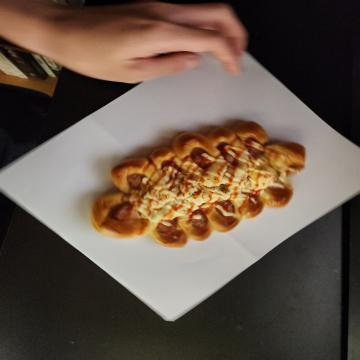pizza_bread: (120, 54, 247, 275)
